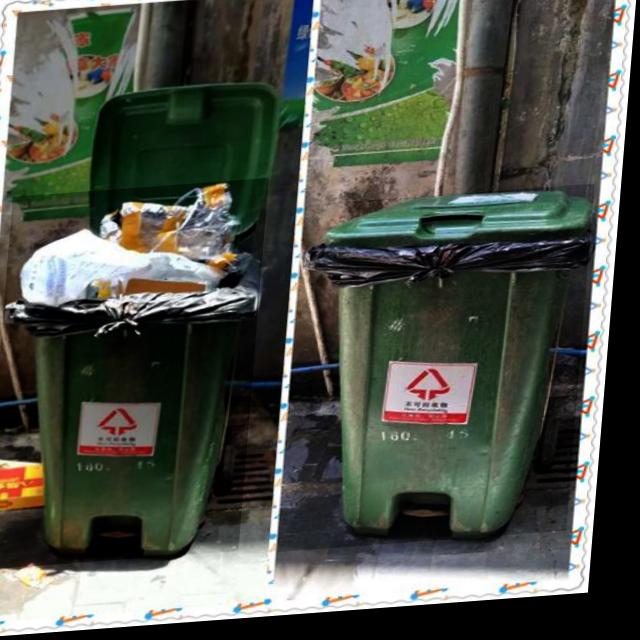garbage_bin: (287, 193, 598, 557)
overflow: (0, 182, 273, 570)
